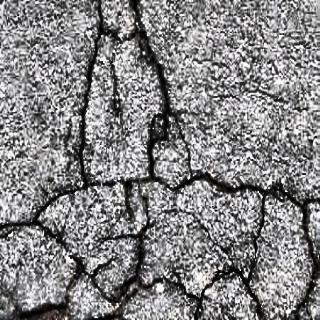alligator-crack: (4, 4, 320, 320)
